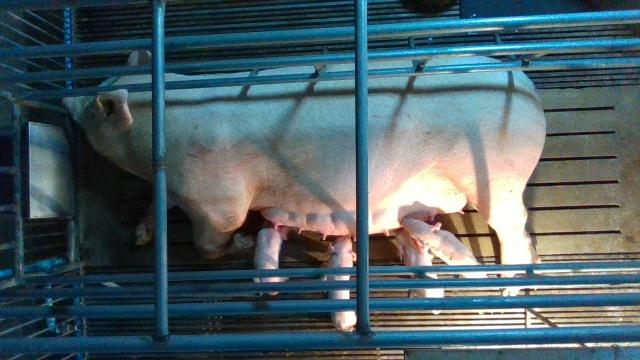piglet: (402, 215, 488, 278), (395, 227, 444, 315), (322, 233, 358, 332), (254, 218, 290, 297)
sow-sleep-lactate: (61, 48, 547, 297)
